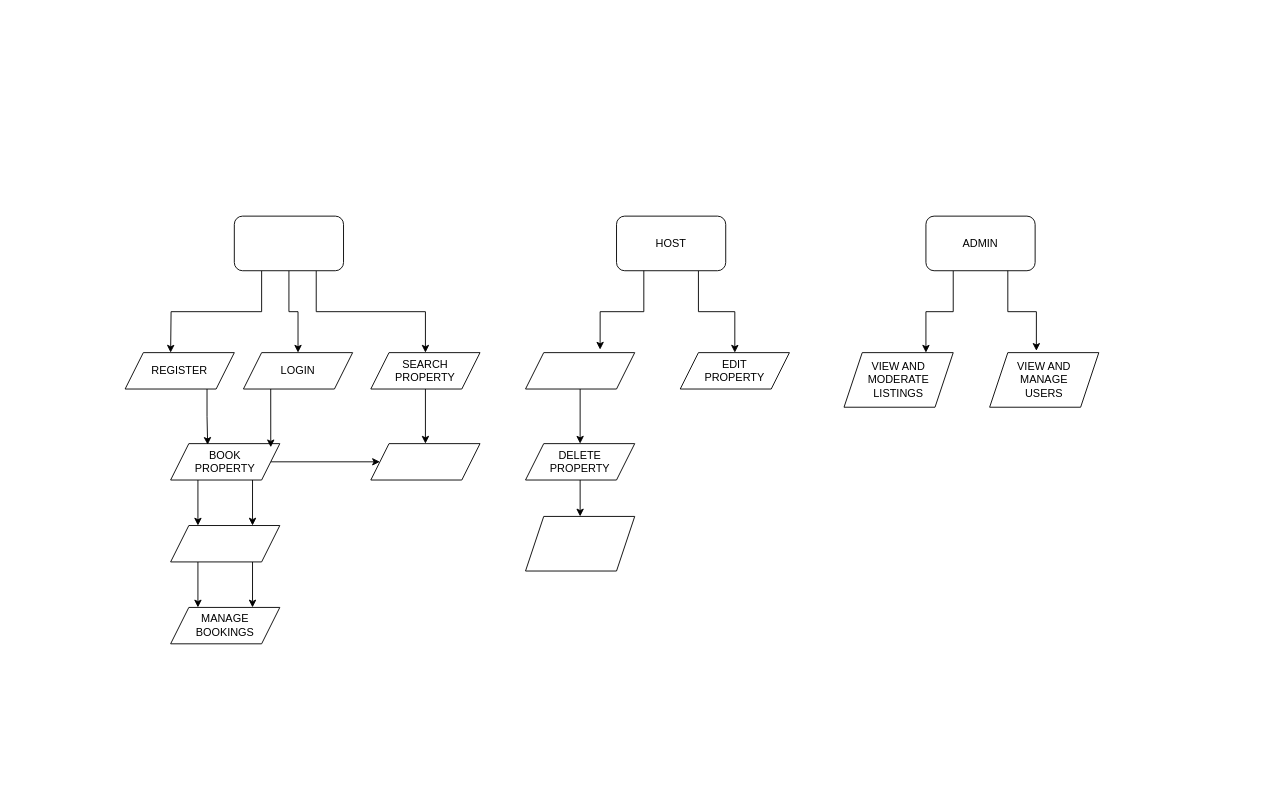
The diagram is 1269 pixels wide and 787 high, and some of its shapes have lost their labels. Each missing label, with the centre of its shape:
"ADD PROPERTY" goes at (x=580, y=370).
"DROP REVIEW" goes at (x=225, y=543).
"GUEST" goes at (x=288, y=243).
"MAKE PAYMENT" goes at (x=425, y=461).
"VIEW PROPERTY BOOKINGS" goes at (x=580, y=543).
